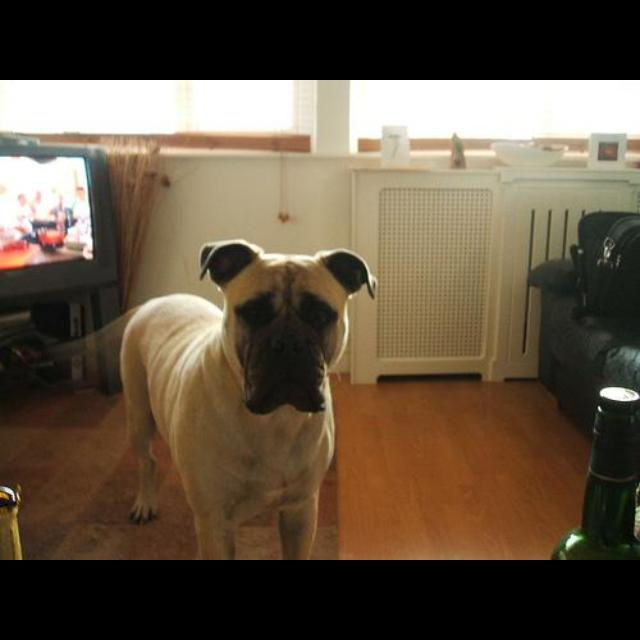bullmastiff: (120, 239, 379, 560)
